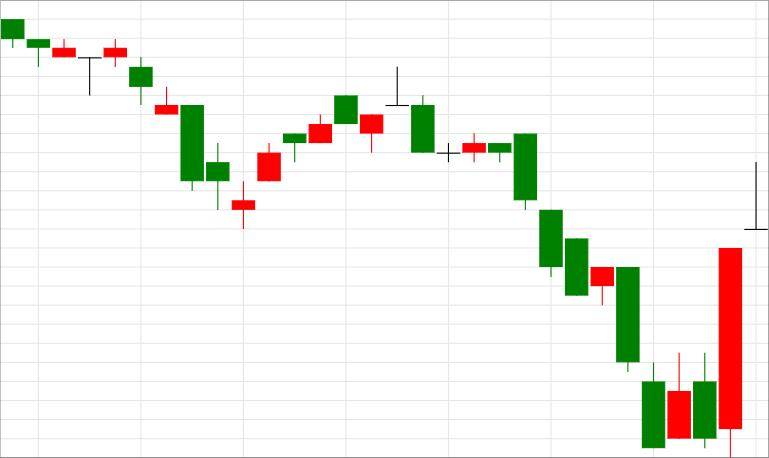bullish_engulfing_rise: (488, 133, 741, 458)
morning_star_rise: (129, 58, 281, 229)
